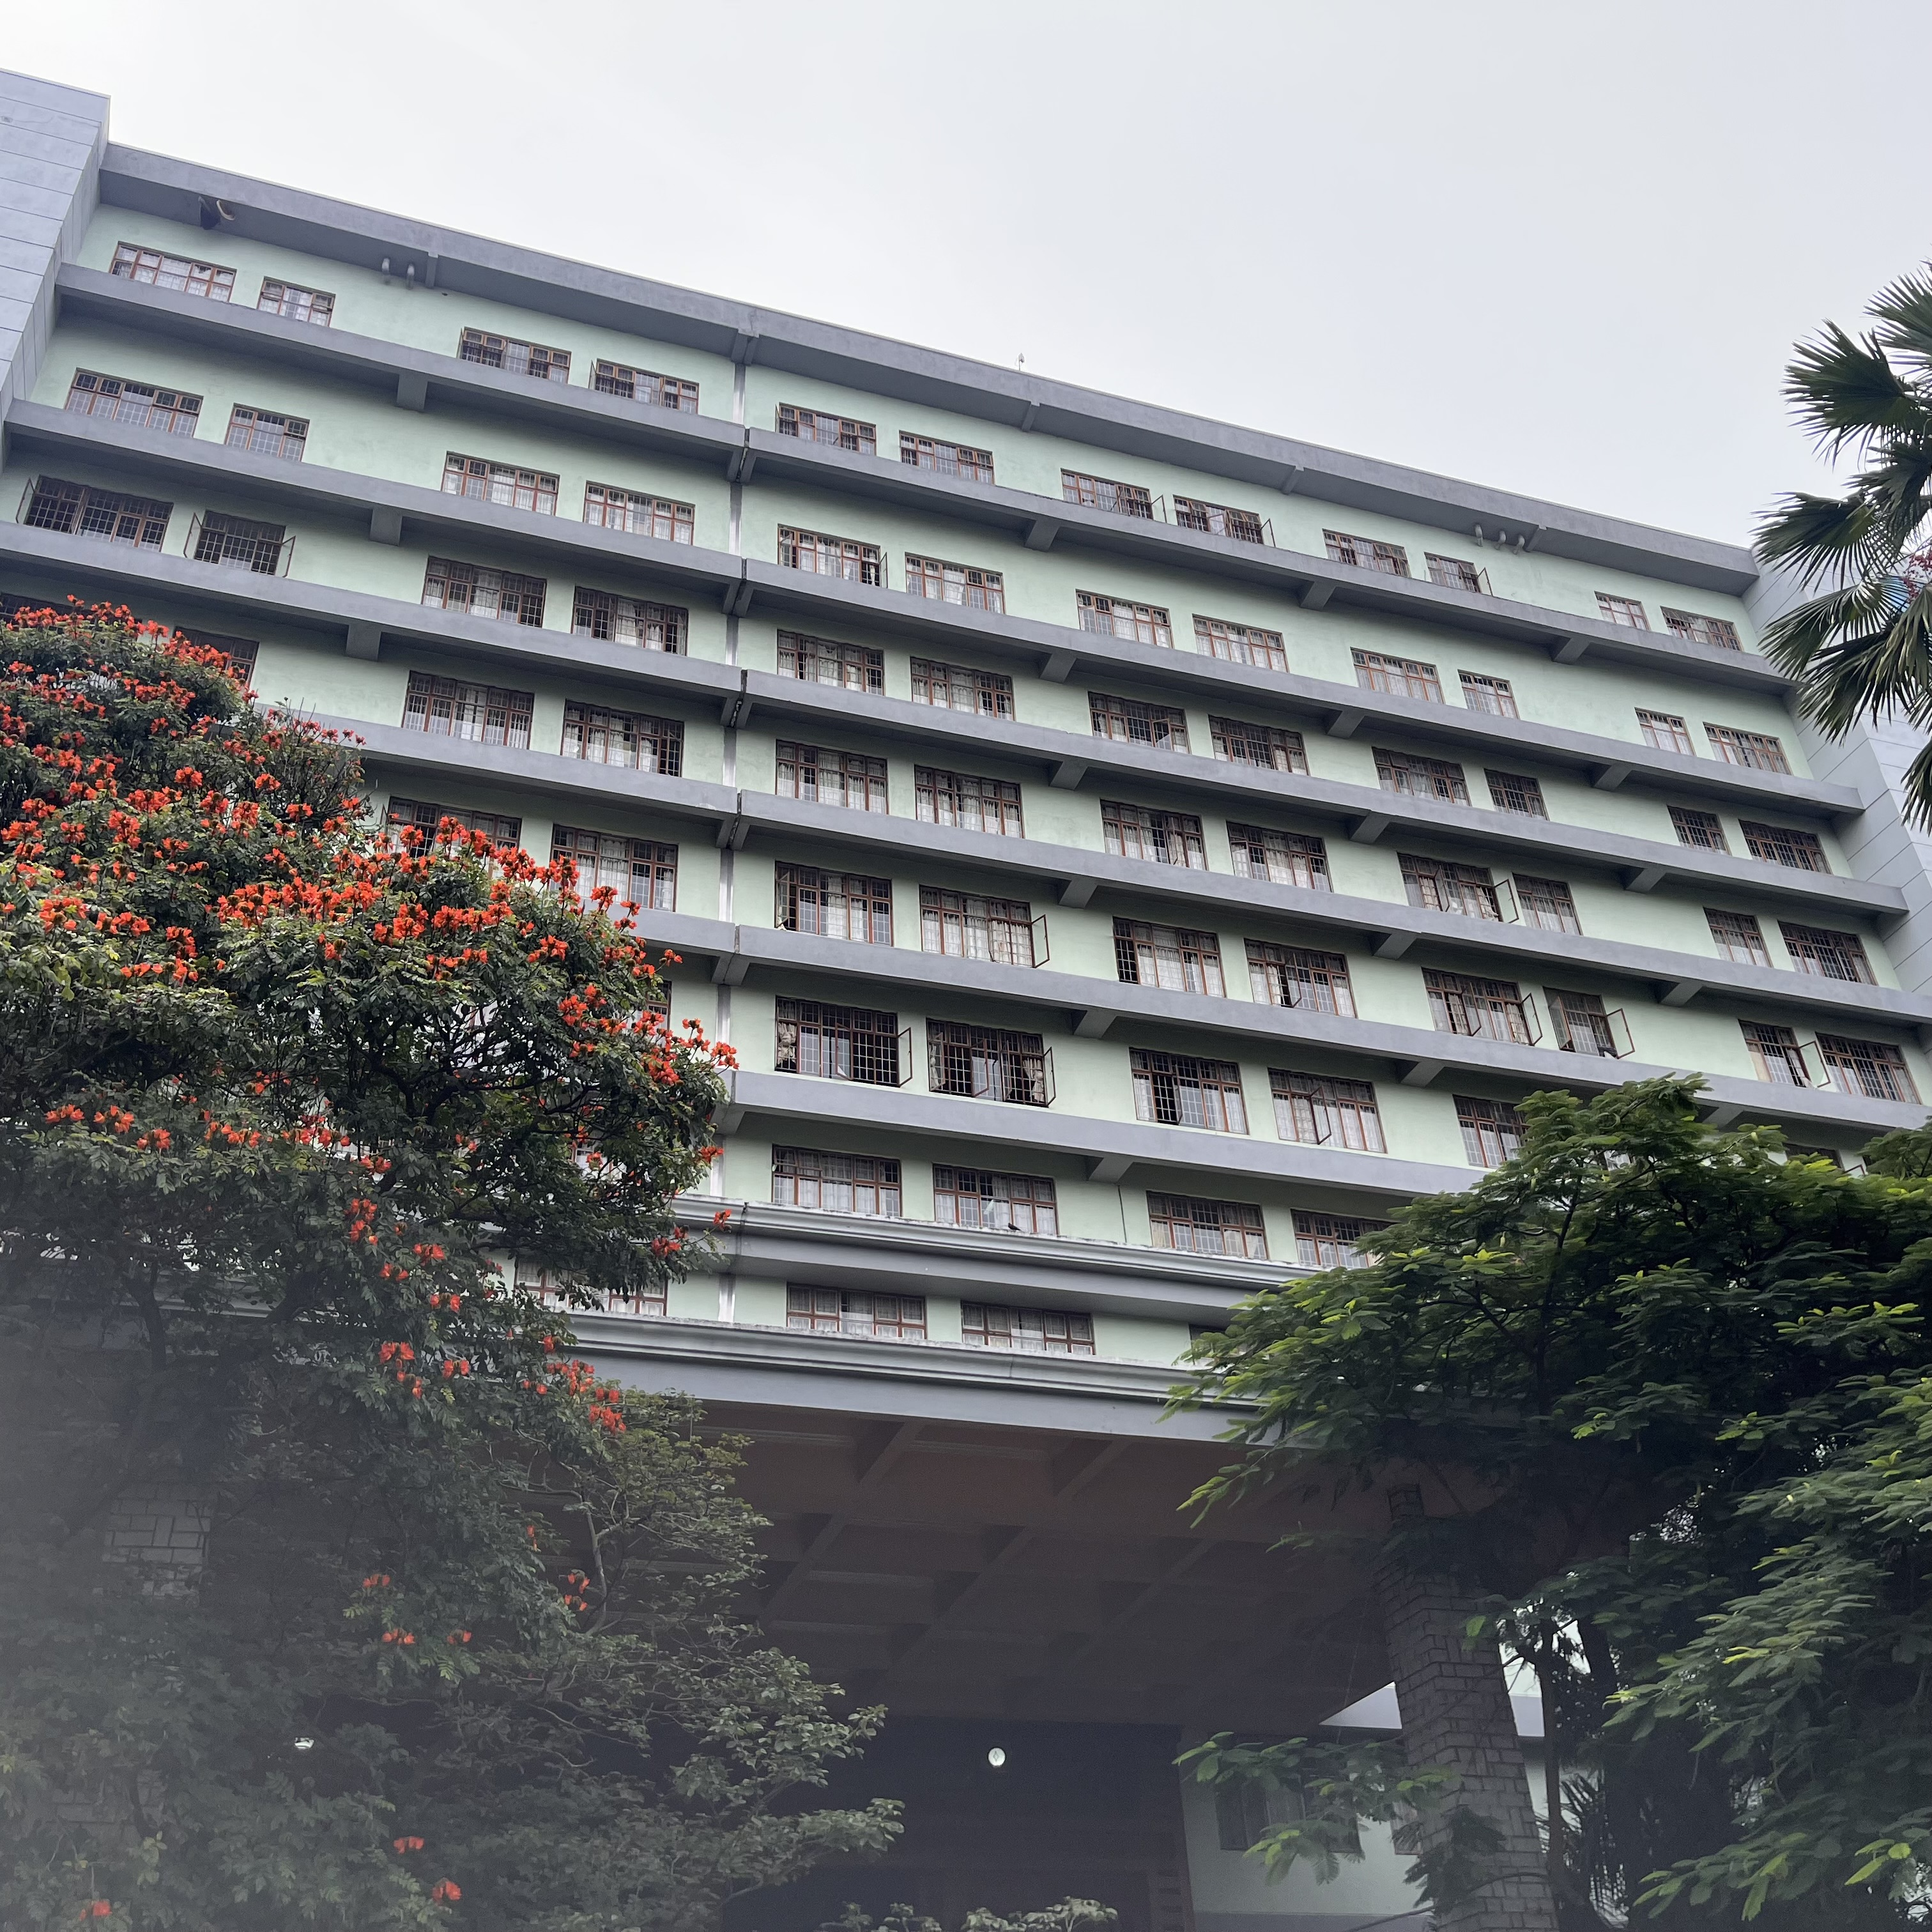Central Block: (28, 53, 1564, 1932)
